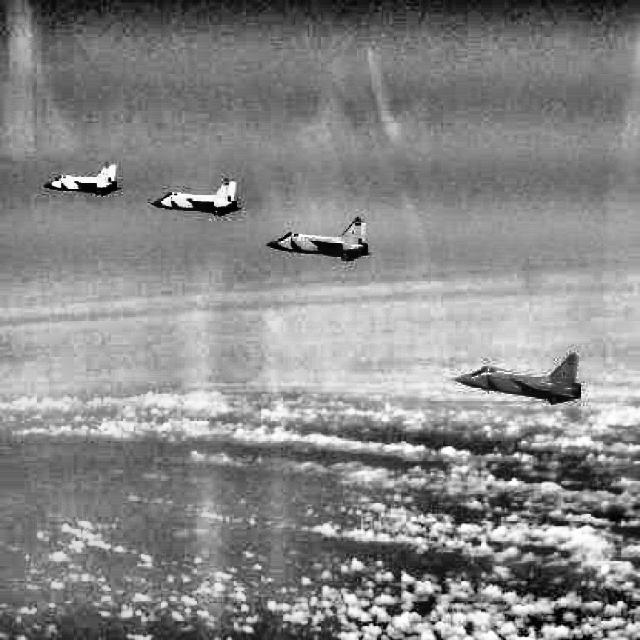Mig31: (452, 352, 580, 405), (264, 215, 371, 262), (149, 176, 242, 218), (43, 162, 122, 196)
